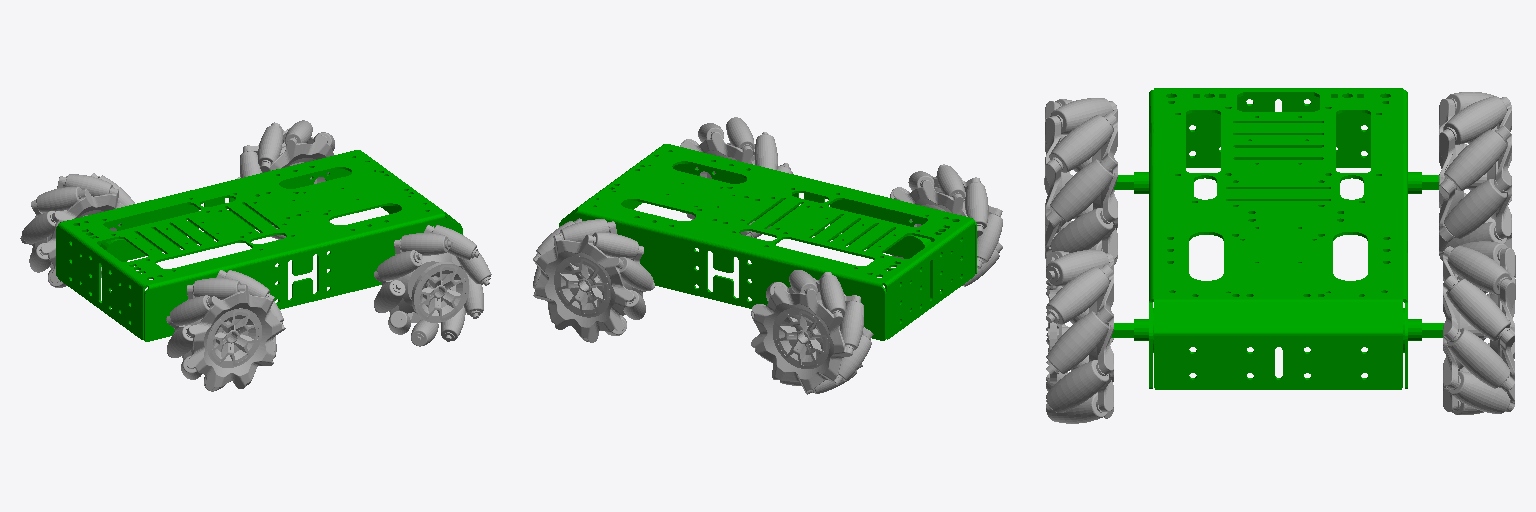
The robot description file, URDF, robot "yahboomcar":
<?xml version="1.0" encoding="utf-8"?>
<!-- This URDF was automatically created by SolidWorks to URDF Exporter! Originally created by Stephen Brawner (brawner@gmail.com) 
     Commit Version: 1.6.0-1-g15f4949  Build Version: 1.6.7594.29634  81.5+32.5
     For more information, please see http://wiki.ros.org/sw_urdf_exporter -->
<robot name="yahboomcar" xmlns:xacro="http://www.ros.org/wiki/xacro">
    <link name="base_footprint"/>
    <link name="imu_link"/>
    <link name="base_link">
        <inertial>
            <origin xyz="0.00498197982182523 5.70233829969297E-05 -0.0121008098068578" rpy="0 0 0"/>
            <mass value="0.486218814966626"/>
            <inertia
                    ixx="0.00196277727666921"
                    ixy="2.50447049446755E-07"
                    ixz="0.000140534767811098"
                    iyy="0.00457256033711368"
                    iyz="2.68618064993882E-07"
                    izz="0.00493927269870476"/>
        </inertial>
        <visual>
            <origin xyz="0 0 0" rpy="0 0 1.5708"/>
            <geometry>
                <mesh filename="package://yahboomcar_description/meshes/base_link_X4.STL"/>
            </geometry>
            <material name="">
                <color rgba="0 0.7 0 1"/>
            </material>
        </visual>
        <collision>
            <origin xyz="0 0 0" rpy="0 0 1.5708"/>
            <geometry>
                <mesh filename="package://yahboomcar_description/meshes/base_link_X4.STL"/>
            </geometry>
        </collision>
    </link>
    <joint name="base_joint" type="fixed">
        <parent link="base_footprint"/>
        <child link="base_link"/>
        <origin xyz="0.0 0.0 0.0815" rpy="0 0 0"/>
    </joint>
    <joint name="base_imu" type="fixed">
        <parent link="base_link"/>
        <child link="imu_link"/>
        <origin xyz="-0.06 0.01 0.01" rpy="0 3.1415 1.5707"/>
    </joint>
    <link name="front_right_wheel">
        <inertial>
            <origin xyz="1.9051E-06 -2.3183E-07 -0.00064079" rpy="0 0 0"/>
            <mass value="0.051532"/>
            <inertia ixx="1.4595E-05" ixy="-4.3975E-10" ixz="4.415E-10"
                     iyy="1.4594E-05" iyz="-1.7476E-09" izz="2.4264E-05"/>
        </inertial>
        <visual>
            <origin xyz="0.0027 -0.1061 -0.094" rpy="0 -1.5708 0"/>
            <geometry>
                <mesh filename="package://yahboomcar_description/meshes/front_right_wheel_X4.STL"/>
            </geometry>
            <material name="">
                <color rgba="0.7 0.7 0.7 1"/>
            </material>
        </visual>
        <collision>
            <origin xyz="0.0027 -0.1061 -0.094" rpy="0 -1.5708 0"/>
            <geometry>
                <mesh filename="package://yahboomcar_description/meshes/front_right_wheel_X4.STL"/>
            </geometry>
        </collision>
    </link>
    <joint name="front_right_joint" type="continuous">
        <origin xyz="0.08623 -0.09653 -0.0" rpy="-1.5703 0 3.14159"/>
        <parent link="base_link"/>
        <child link="front_right_wheel"/>
        <axis xyz="0 0 1" rpy="0 0 0"/>
        <limit effort="100" velocity="1"/>
    </joint>
    <link name="front_left_wheel">
        <inertial>
            <origin xyz="2.3728E-06 -9.4228E-07 0.00064068" rpy="0 0 0"/>
            <mass value="0.051543"/>
            <inertia ixx="1.4597E-05" ixy="-4.7945E-10" ixz="-2.4786E-10"
                     iyy="1.4598E-05" iyz="1.7972E-09" izz="2.4267E-05"/>
        </inertial>
        <visual>
            <origin xyz="0.0 -0.106 0.09" rpy="0 -1.5708 0"/>
            <geometry>
                <mesh filename="package://yahboomcar_description/meshes/front_left_wheel_X4.STL"/>
            </geometry>
            <material name="">
                <color rgba="0.7 0.7 0.7 1"/>
            </material>
        </visual>
        <collision>
            <origin xyz="0.0 -0.106 0.09" rpy="0 -1.5708 0"/>
            <geometry>
                <mesh filename="package://yahboomcar_description/meshes/front_left_wheel_X4.STL"/>
            </geometry>
        </collision>
    </link>
    <joint name="front_left_joint" type="continuous">
        <origin xyz="0.08623 0.09653 -0.0" rpy="1.5703 0 0"/>
        <parent link="base_link"/>
        <child link="front_left_wheel"/>
        <axis xyz="0 0 1" rpy="0 0 0"/>
        <limit effort="100" velocity="1"/>
    </joint>
    <link name="back_right_wheel">
        <inertial>
            <origin xyz="-1.75924169923403E-06 1.28388821071107E-06 -0.000590549296238266" rpy="0 0 0"/>
            <mass value="0.051540174053366"/>
            <inertia ixx="1.45974152250002E-05" ixy="1.94850559178397E-10" ixz="-1.61846387282284E-09"
                     iyy="1.4596501955693E-05" iyz="-6.27904057423818E-10" izz="2.42663091380451E-05"/>
        </inertial>
        <visual>
            <origin xyz="0 -0.11 -0.096" rpy="0 -1.578 0"/>
            <geometry>
                <mesh filename="package://yahboomcar_description/meshes/back_right_wheel_X4.STL"/>
            </geometry>
            <material name="">
                <color rgba="0.7 0.7 0.7 1"/>
            </material>
        </visual>
        <collision>
            <origin xyz="0 -0.11 -0.096" rpy="0 -1.578 0"/>
            <geometry>
                <mesh filename="package://yahboomcar_description/meshes/back_right_wheel_X4.STL"/>
            </geometry>
        </collision>
    </link>
    <joint name="back_right_joint" type="continuous">
        <origin xyz="-0.11 -0.09653 -0.0" rpy="-1.57 0 3.14159"/>
        <parent link="base_link"/>
        <child link="back_right_wheel"/>
        <axis xyz="0 0 1" rpy="0 0 0"/>
        <limit effort="100" velocity="1"/>
    </joint>
    <link name="back_left_wheel">
        <inertial>
            <origin xyz="-4.01213085227115E-07 2.04910264598596E-06 0.000590775697051377" rpy="0 0 0"/>
            <mass value="0.0515309299357028"/>
            <inertia ixx="1.45942986129926E-05" ixy="-3.19787215398093E-10" ixz="1.74943062058915E-09"
                     iyy="1.45948727598913E-05" iyz="1.61769812110049E-10" izz="2.4263683888153E-05"/>
        </inertial>
        <visual>
            <origin xyz="-0 0.089 0.092" rpy="0 -1.57 0"/>
            <geometry>
                <mesh filename="package://yahboomcar_description/meshes/back_left_wheel_X4.STL"/>
            </geometry>
            <material name="">
                <color rgba="0.7 0.7 0.7 1"/>
            </material>
        </visual>
        <collision>
            <origin xyz="-0 0.089 0.092" rpy="0 -1.57 0"/>
            <geometry>
                <mesh filename="package://yahboomcar_description/meshes/back_left_wheel_X4.STL"/>
            </geometry>
        </collision>
    </link>
    <joint name="back_left_joint" type="continuous">
        <origin xyz="-0.11 0.09653 -0.0" rpy="1.5703 0 0"/>
        <parent link="base_link"/>
        <child link="back_left_wheel"/>
        <axis xyz="0 0 1" rpy="0 0 0"/>
        <limit effort="100" velocity="1"/>
    </joint>
    <link name="laser_link">
        <inertial>
            <origin xyz="-0.0176558922685589 0.000671805271544437 0.0219302095894866" rpy="0 0 0" />
            <mass value="0.0483909504209895" />
            <inertia ixx="1.58456966399128E-05" ixy="-4.23913983850005E-07" ixz="-2.09597897904374E-07"
                     iyy="3.89262522903605E-05" iyz="3.24809725932687E-07" izz="4.86230801106223E-05" />
        </inertial>
        <visual>
            <origin xyz="0 0 0" rpy="0 0 0"/>
            <geometry>
                <mesh filename="package://yahboomcar_description/meshes/laser_link.STL"/>
            </geometry>
            <material name="">
                <color rgba="0.7 0.7 0.7 1"/>
            </material>
        </visual>
        <collision>
            <origin xyz="0 0 0" rpy="0 0 0"/>
            <geometry>
                <mesh filename="package://yahboomcar_description/meshes/laser_link.STL"/>
            </geometry>
        </collision>
    </link>
    <joint name="laser_joint" type="fixed">
        <origin xyz="0.09 40.25826986680105E-03 0.08" rpy="0 0 0"/>
        <parent link="base_link"/>
        <child link="laser_link"/>
    </joint>
    <!-- <link name="lidar_link">
        <visual>
            <origin xyz="0 0 0.05" rpy="0 0 0"/>
            <geometry>
                <cylinder radius="0.05" length="0.1"/>
            </geometry>
            <material name="blue">
                <color rgba="0 0 0.8 1.0"/>
            </material> 
        </visual>
        <collision>
            <origin xyz="0 0 0.05" rpy="0 0 0"/>
            <geometry>
                <cylinder radius="0.05" length="0.1"/>
            </geometry>
        </collision>
    <joint name="lidar_joint" type="continuous">
        <origin xyz="0.08623 0.08 -0.0" rpy="0 0 0"/>
        <parent link="base_link"/>
        <child link="lidar_link"/>
        <axis xyz="0 0 1" rpy="0 0 0"/>
        <limit effort="100" velocity="1"/>
    </joint>  -->
</robot>

--- Render facts (derived) ---
The picture shows the robot from 3 angles, left to right: view 1: azimuth 30°, elevation 25°; view 2: azimuth 150°, elevation 25°; view 3: azimuth 270°, elevation 25°; orthographic projection.
Model yahboomcar with 8 links and 7 joints (4 continuous, 3 fixed), rooted at base_footprint, posed all joints at 0.
Visible links, largest first — view 1: base_link, back_right_wheel, front_right_wheel, back_left_wheel, front_left_wheel; view 2: base_link, front_left_wheel, back_left_wheel, back_right_wheel, front_right_wheel; view 3: base_link, front_left_wheel, front_right_wheel, back_right_wheel, back_left_wheel.
Boxes of the visible links, box(x1,y1,x2,y2) form: base_link: box(56, 150, 462, 341); back_right_wheel: box(166, 270, 285, 391); front_right_wheel: box(374, 225, 491, 346); back_left_wheel: box(20, 173, 134, 287); front_left_wheel: box(237, 120, 334, 239); base_link: box(559, 144, 976, 340); front_left_wheel: box(533, 218, 654, 342); back_left_wheel: box(751, 270, 873, 394); back_right_wheel: box(890, 164, 1002, 286); front_right_wheel: box(680, 117, 792, 237); base_link: box(1111, 88, 1443, 389); front_left_wheel: box(1443, 241, 1515, 414); front_right_wheel: box(1046, 250, 1113, 423); back_right_wheel: box(1044, 98, 1117, 264); back_left_wheel: box(1439, 92, 1511, 260).
Size in the robot's own frame: 0.2996 by 0.2635 by 0.1017 metres.
5 mesh visuals loaded from 6 distinct referenced files (5 binary STL); not drawn: 1 (reference not matched to a file when rendering).
